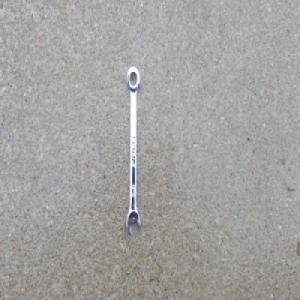Wrench: (125, 64, 141, 236)
